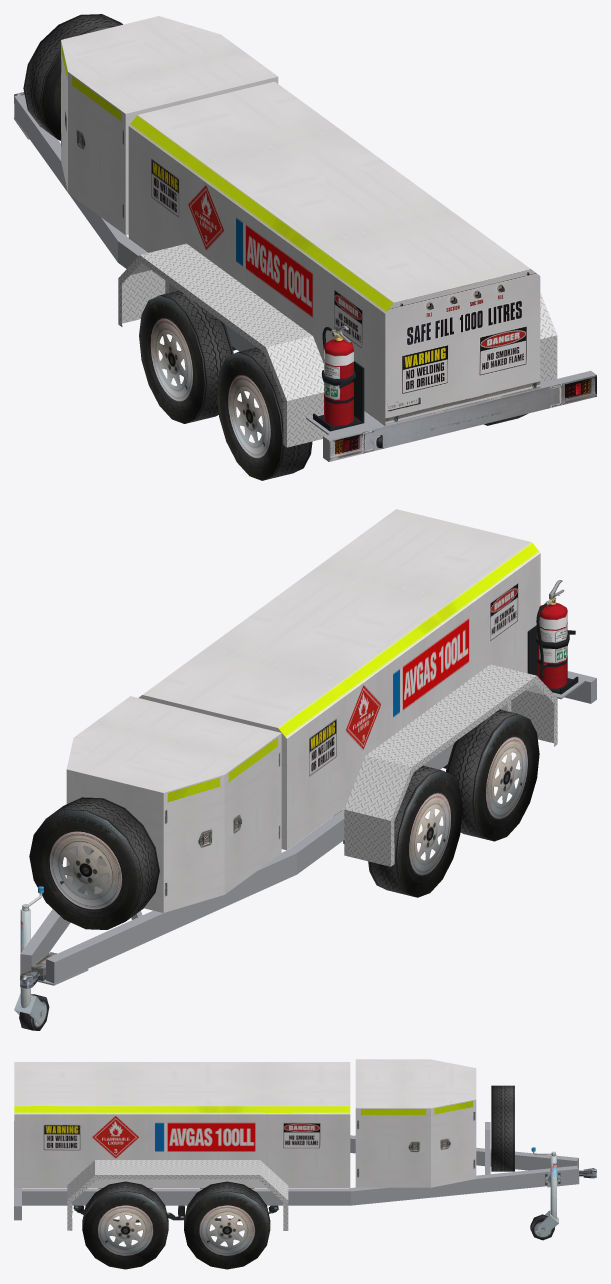
The model's file is fuel-trailer-5m-cbj_LOD02.gltf.
3 renders of one model, top to bottom at view 1: azimuth 30°, elevation 25°; view 2: azimuth 150°, elevation 25°; view 3: azimuth 270°, elevation 25°, orthographic. The views are drawn at different scales.
Visible parts, largest first — view 1: fuel-trailer1-02; view 2: fuel-trailer1-02; view 3: fuel-trailer1-02.
Part boxes in pixels (x1,y1,x2,y2): fuel-trailer1-02: [14, 14, 596, 480]; fuel-trailer1-02: [14, 509, 596, 1030]; fuel-trailer1-02: [14, 1059, 596, 1269].
Bounding box in the file's own units: 1.82 × 1.43 × 5.21.
